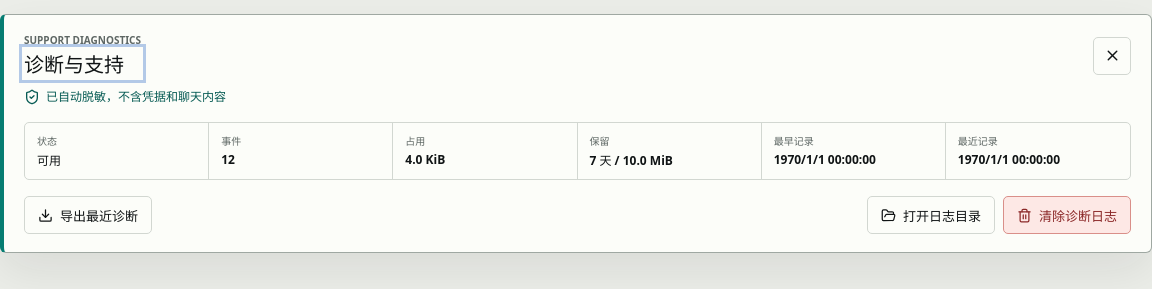
Test: DiagnosticPanel › blocks export while another diagnostic panel action is still running
Expected: the text "12" is shown, [221, 151, 235, 168]
What coordinates should you click on to do the following:
click the button "打开日志目录"
I would click on:
 (931, 215)
Its box is [867, 196, 995, 234].
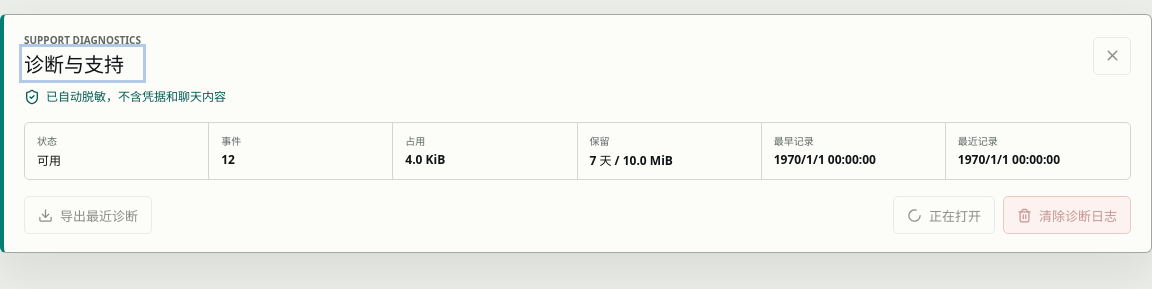
Now the button "导出最近诊断" is disabled
What coordinates should you click on to do the following:
click the button "导出最近诊断"
I would click on:
 (88, 215)
Its box is [24, 196, 152, 234].
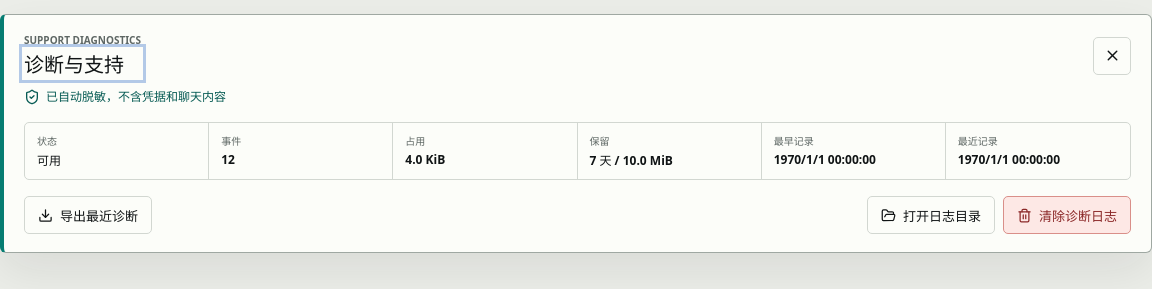
Now the button "导出最近诊断" is enabled, box [24, 196, 152, 234]
